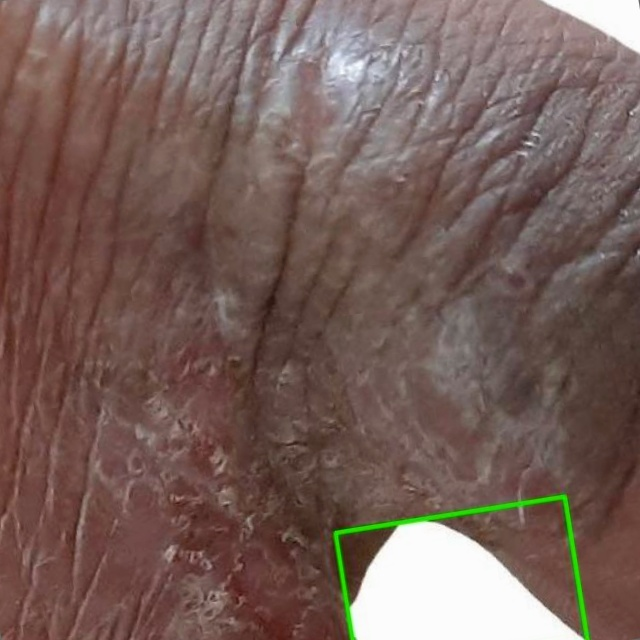Eczema: (335, 496, 587, 639)
